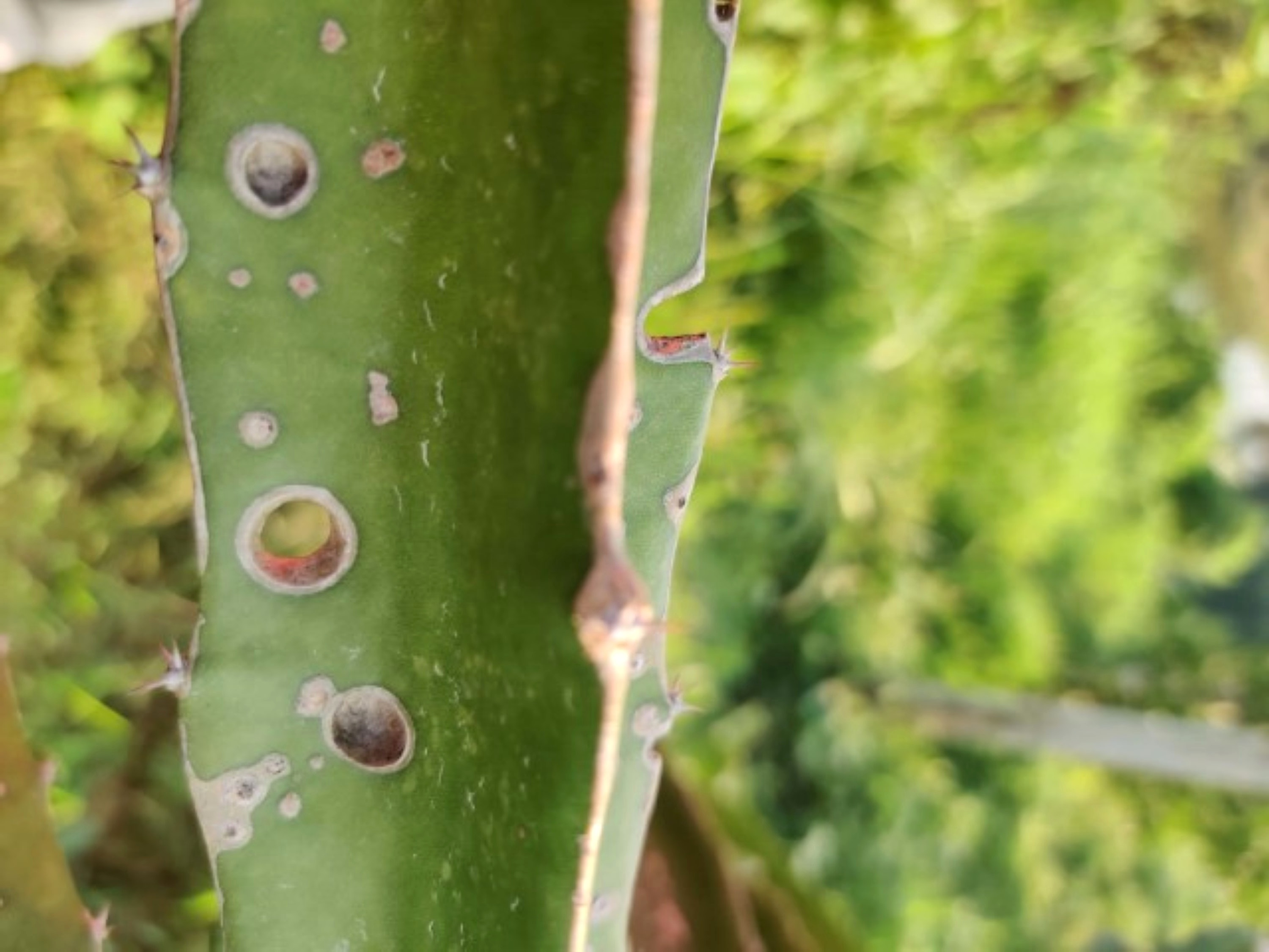stemcanker: (116, 38, 651, 789)
